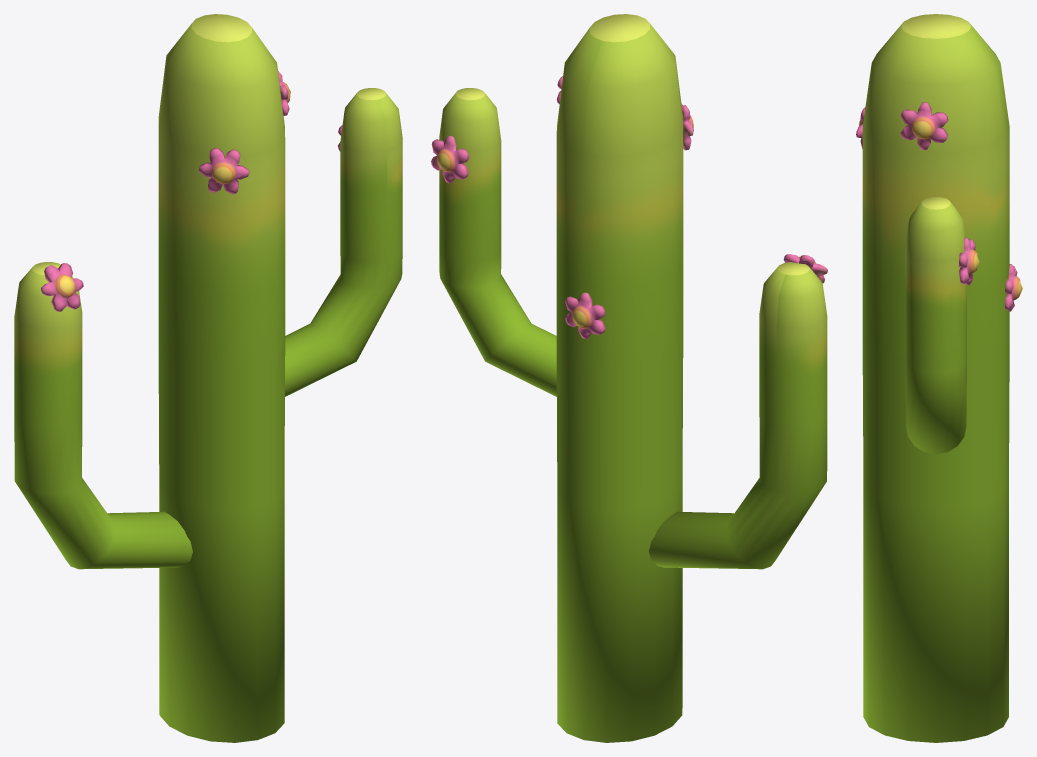
The model's file is Cactus2.fbx.
3 renders of one model, left to right at view 1: azimuth 30°, elevation 25°; view 2: azimuth 150°, elevation 25°; view 3: azimuth 270°, elevation 25°, orthographic.
Visible parts, largest first — view 1: Cylinder, Cylinder.002, Cylinder.003; view 2: Cylinder, Cylinder.005, Cylinder.004; view 3: Cylinder, Cylinder.001, Cylinder.004, Cylinder.005.
Part boxes in pixels (x1,y1,x2,y2): Cylinder: (14, 14, 402, 742); Cylinder.002: (198, 148, 249, 194); Cylinder.003: (41, 263, 83, 311); Cylinder: (439, 14, 827, 742); Cylinder.005: (565, 292, 605, 339); Cylinder.004: (431, 135, 469, 183); Cylinder: (862, 14, 1009, 742); Cylinder.001: (900, 102, 948, 150); Cylinder.004: (958, 237, 979, 285); Cylinder.005: (1005, 264, 1022, 311).
Size of the model in its own units: 516 by 889 by 195.
6 materials, 6 textured.
